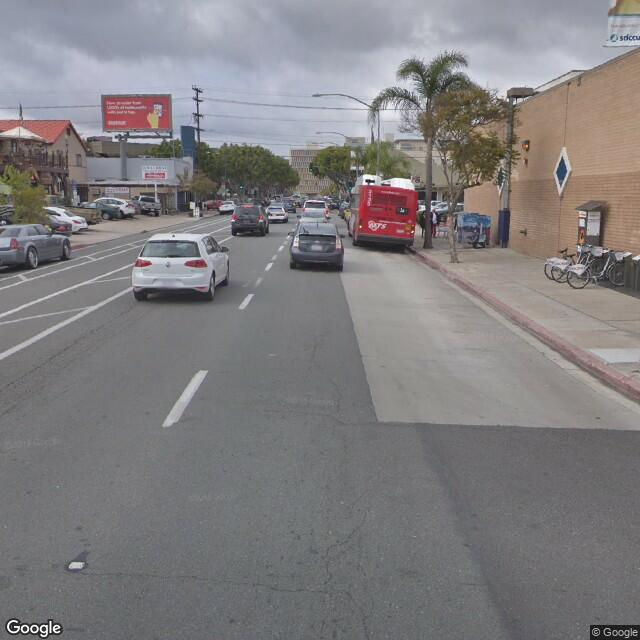road line: (165, 289, 265, 447)
